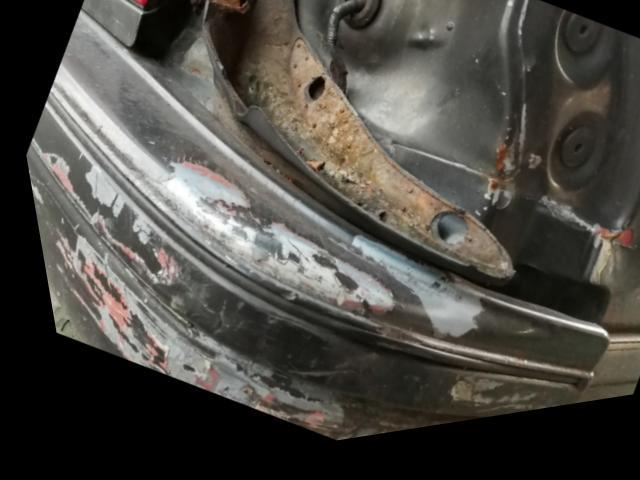no part: (128, 0, 640, 351)
scratch: (21, 98, 534, 449)
